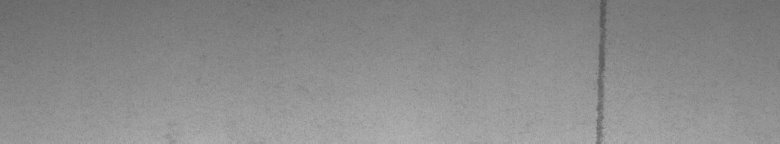hd: (592, 4, 611, 136)
